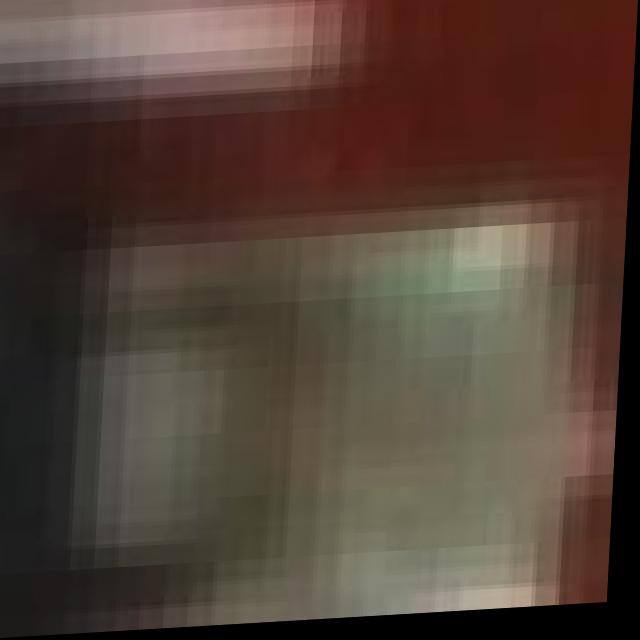transistor: (0, 38, 478, 640)
